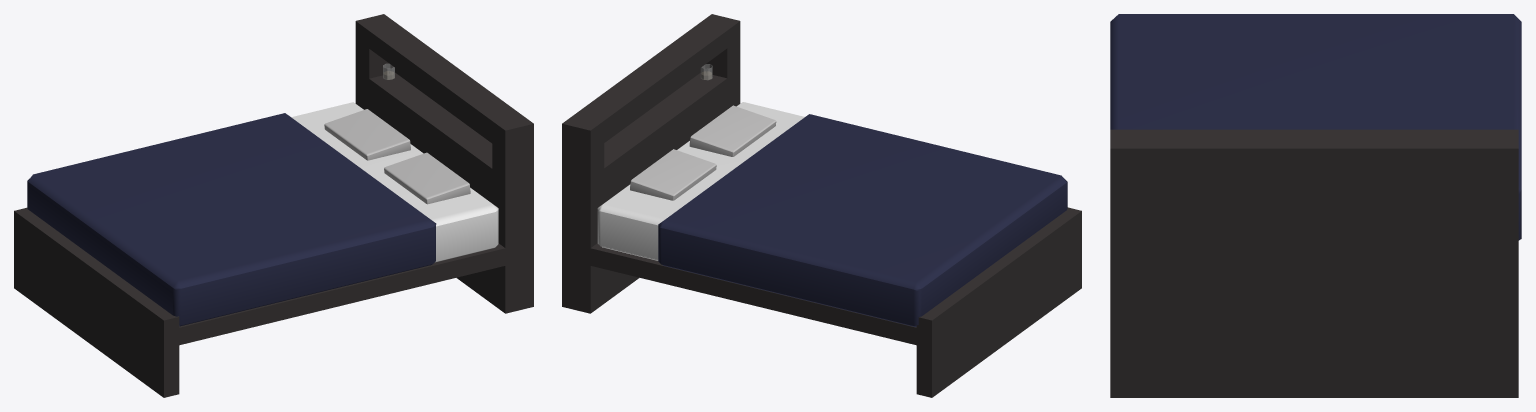
The model's file is BedAndCandles.fbx.
The picture shows the model from 3 angles, left to right: view 1: azimuth 30°, elevation 25°; view 2: azimuth 150°, elevation 25°; view 3: azimuth 270°, elevation 25°; orthographic projection. The views are drawn at different scales.
Visible parts, largest first — view 1: Bed; view 2: Bed; view 3: Bed.
Part boxes in pixels (box(x1,y1,x2,y2)): Bed: box(14, 14, 533, 397); Bed: box(562, 14, 1081, 397); Bed: box(1110, 14, 1521, 397).
Bounding box in the file's own units: 258 × 123 × 183.
